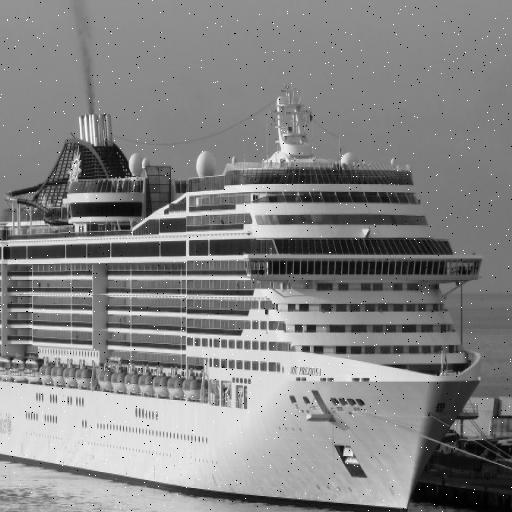cruises: (1, 83, 489, 512)
